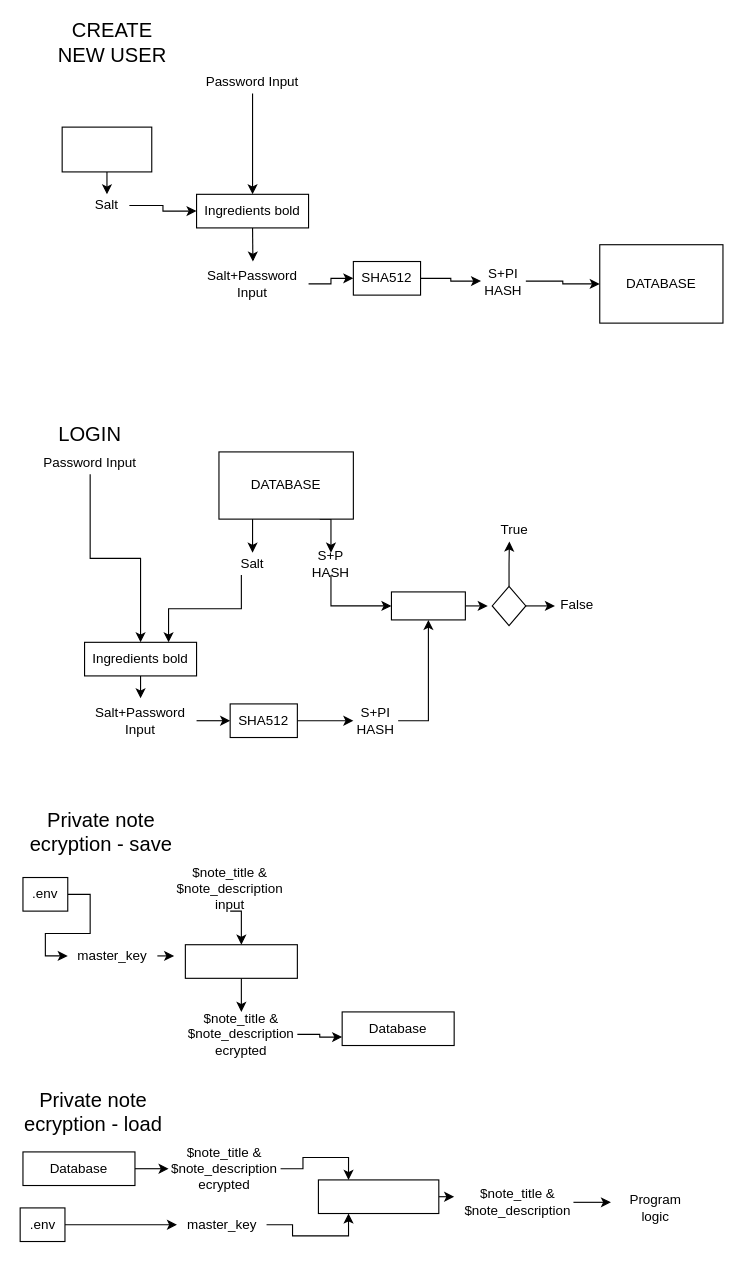
The diagram is 743 pixels wide and 1264 high, and some of its shapes have lost their labels. The box of each missing label's shape, as (x1, y1, x2, y2) in pixels:
AES128 or AES128 decryption: (317, 1179, 439, 1214)
AES256 or AES512 ecryption: (184, 944, 297, 978)
Compare: (390, 591, 465, 620)
Generate 100 random String: (61, 126, 152, 172)
